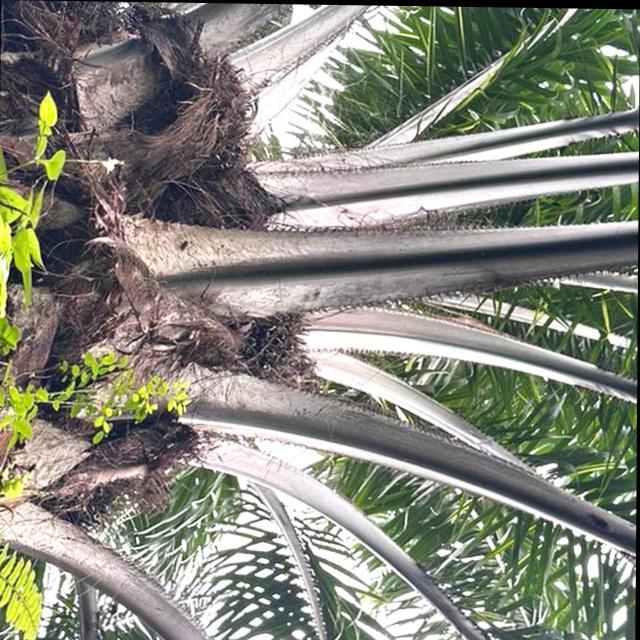unripe: (175, 282, 319, 397)
